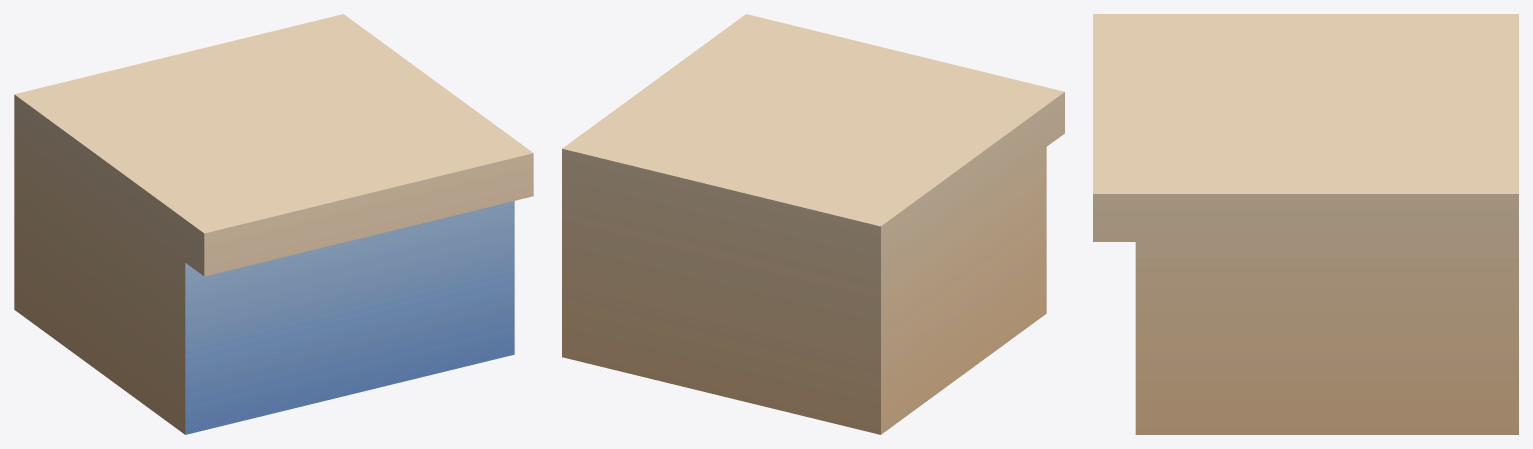
Rendered from kenney-modular-buildings-building-window-large-middle.glb.
The picture shows the model from 3 angles, left to right: view 1: azimuth 30°, elevation 25°; view 2: azimuth 150°, elevation 25°; view 3: azimuth 270°, elevation 25°; orthographic projection. The views are drawn at different scales.
Visible parts, largest first — view 1: building-window-large-middle; view 2: building-window-large-middle; view 3: building-window-large-middle.
Boxes of the visible parts, x1,y1,x2,y2 form: building-window-large-middle: (14,14,533,434); building-window-large-middle: (562,14,1064,434); building-window-large-middle: (1093,14,1518,434).
Size of the model in its own units: 1 by 0.625 by 1.
Materials: 1 (1 with a texture image).
